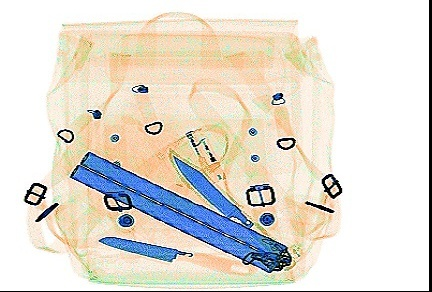knife: (169, 152, 296, 271), (95, 235, 253, 274)
lighter: (182, 125, 227, 185)
